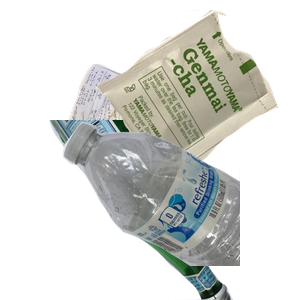glass: (37, 120, 262, 300)
paper: (63, 61, 242, 206)
plastic: (60, 120, 300, 300)
trash: (91, 10, 300, 186)
